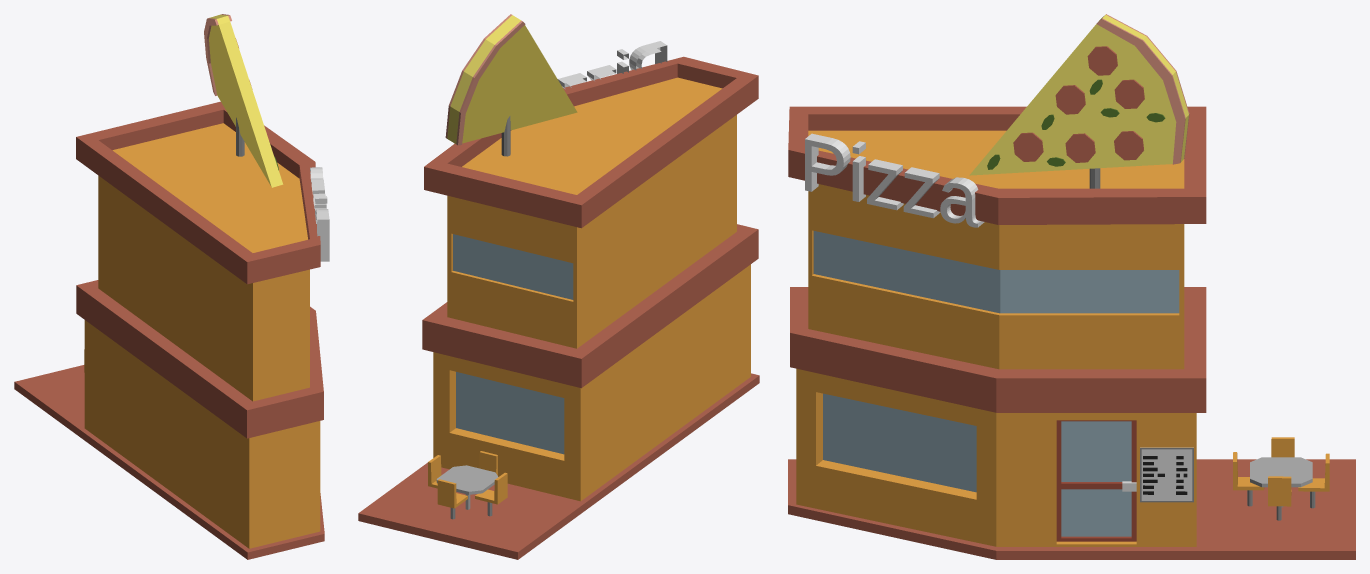
File: pizza-mp.glb
3 views of the same model, side by side, from view 1: azimuth 30°, elevation 25°; view 2: azimuth 150°, elevation 25°; view 3: azimuth 270°, elevation 25° (orthographic). The views are drawn at different scales.
Visible parts, largest first — view 1: pizza-mp; view 2: pizza-mp; view 3: pizza-mp.
Part boxes in pixels (bbox=[...]): pizza-mp: bbox=[14, 14, 329, 559]; pizza-mp: bbox=[358, 14, 759, 559]; pizza-mp: bbox=[788, 14, 1355, 559].
Size of the model in its own units: 2.87 by 7.55 by 7.53.
1 material, 1 textured.
